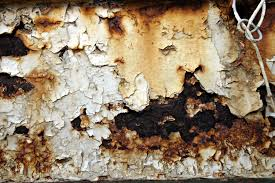rust: (90, 69, 275, 160), (15, 135, 55, 175), (1, 69, 44, 105), (2, 29, 42, 64), (94, 11, 128, 39), (9, 123, 37, 141)
